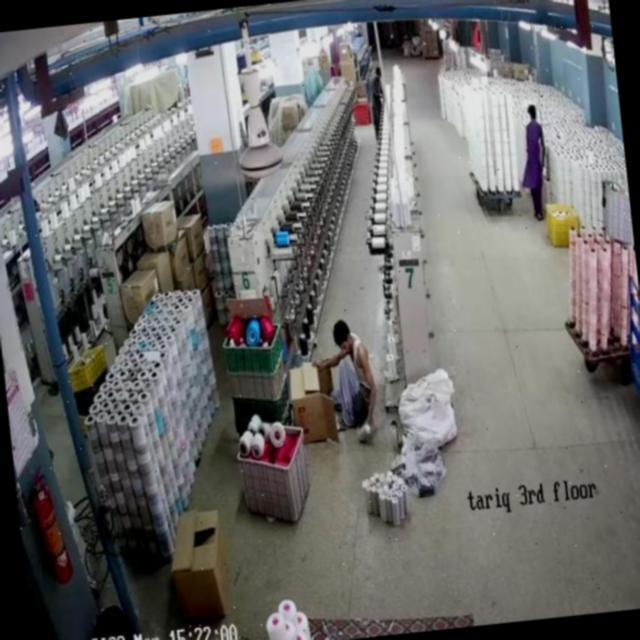person: (324, 308, 384, 442), (519, 100, 552, 222), (367, 64, 390, 130)
